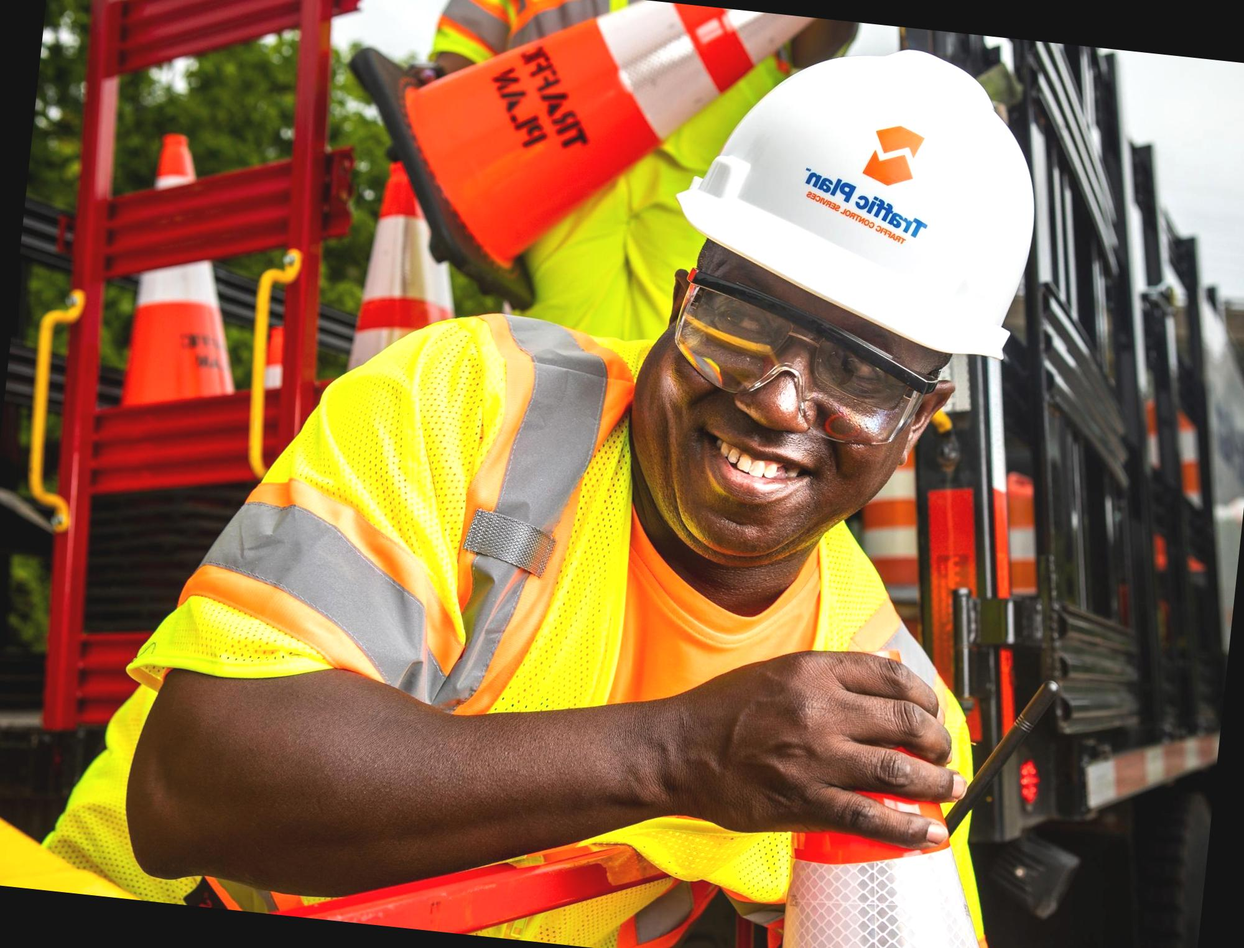helmet: (652, 17, 1065, 375)
person: (144, 0, 1083, 948)
